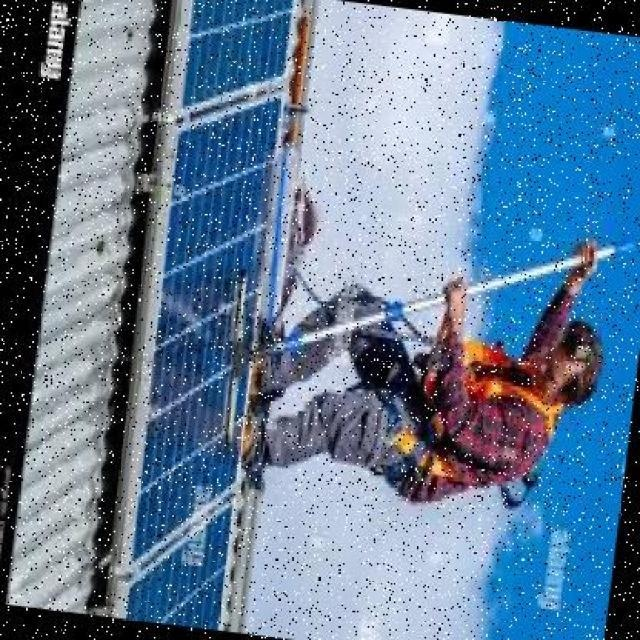Arnes_seguridad: (357, 296, 570, 529)
